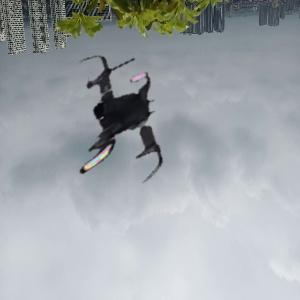drone: (36, 50, 183, 197)
